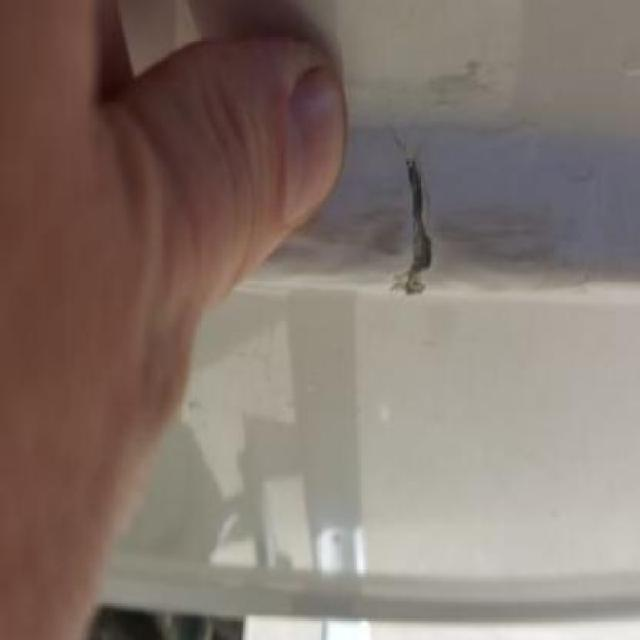crack: (389, 131, 435, 300)
